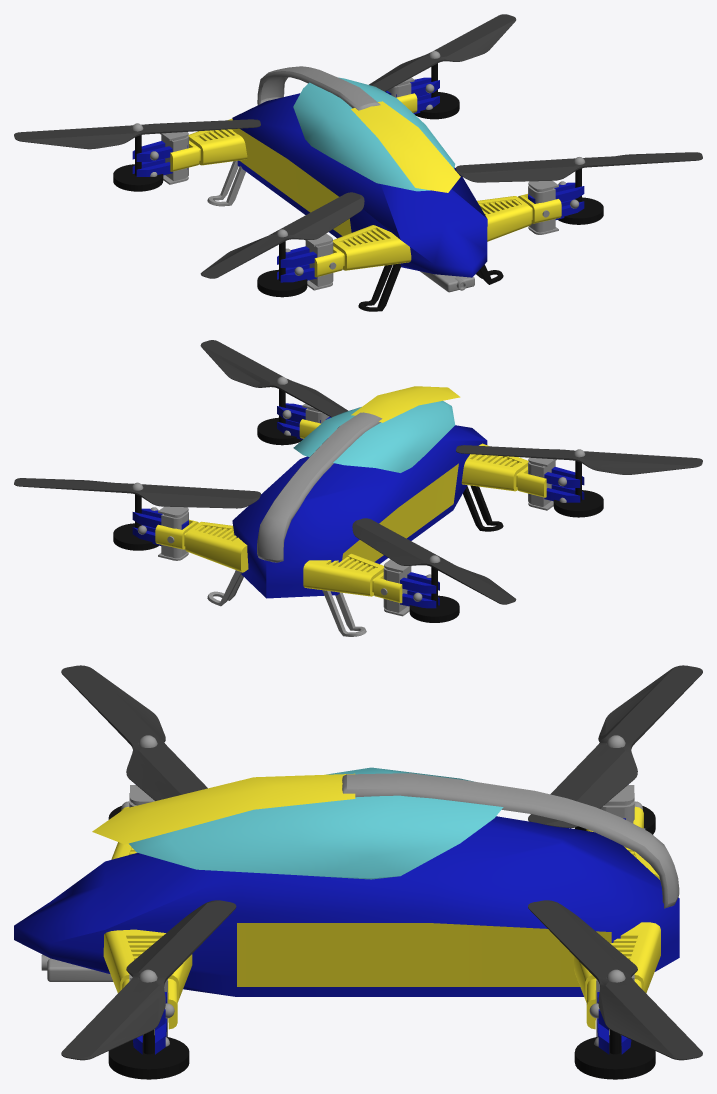
The model's file is drone.FBX.
3 renders of one model, top to bottom at view 1: azimuth 30°, elevation 25°; view 2: azimuth 150°, elevation 25°; view 3: azimuth 270°, elevation 25°, orthographic. The views are drawn at different scales.
Parts seen in each view (by area): view 1: Cubo_5, Cubo_2, Cubo_2_2, Esfera_3, Esfera_1_2, Cilindro, No_gira, Cubo_1, No_gira_2, Conector, Cubo_3, Cubo_4 (+1 smaller); view 2: Cubo_5, Cubo_2, Cubo_2_2, Esfera_3, Conector, Cilindro, No_gira, Cubo_1, No_gira_2, Esfera_1_2, Cubo_4, Cubo_3; view 3: Cubo_5, Cubo_2, Esfera_3, Cubo_1, Conector, Esfera_1_2, Cubo_2_2, Cilindro, No_gira_2, No_gira, Cubo, Esfera.
Boxes of the visible parts, <box> form: Cubo_5: <box>232,93,487,277</box>; Cubo_2: <box>14,14,702,278</box>; Cubo_2_2: <box>170,93,561,277</box>; Esfera_3: <box>293,77,455,191</box>; Esfera_1_2: <box>351,101,460,192</box>; Cilindro: <box>113,63,603,297</box>; No_gira: <box>132,77,584,282</box>; Cubo_1: <box>232,128,351,235</box>; No_gira_2: <box>160,77,558,290</box>; Conector: <box>257,66,380,110</box>; Cubo_3: <box>358,263,503,311</box>; Cubo_4: <box>207,161,245,206</box>; Cubo_5: <box>232,425,487,598</box>; Cubo_2: <box>14,340,702,604</box>; Cubo_2_2: <box>155,419,546,603</box>; Esfera_3: <box>293,401,455,472</box>; Conector: <box>257,412,382,562</box>; Cilindro: <box>113,389,603,622</box>; No_gira: <box>132,403,584,608</box>; Cubo_1: <box>232,463,458,561</box>; No_gira_2: <box>158,403,556,616</box>; Esfera_1_2: <box>351,386,460,422</box>; Cubo_4: <box>207,570,366,636</box>; Cubo_3: <box>463,485,503,531</box>; Cubo_5: <box>14,816,679,996</box>; Cubo_2: <box>61,665,702,1060</box>; Esfera_3: <box>129,767,503,879</box>; Cubo_1: <box>237,923,611,986</box>; Conector: <box>342,773,679,908</box>; Esfera_1_2: <box>92,773,355,844</box>; Cubo_2_2: <box>103,806,660,1029</box>; Cilindro: <box>108,806,655,1079</box>; No_gira_2: <box>129,785,634,1036</box>; No_gira: <box>133,818,631,1054</box>; Cubo: <box>47,958,113,981</box>; Esfera: <box>138,735,625,982</box>.
Bounding box in the file's own units: 575 × 161 × 425.
